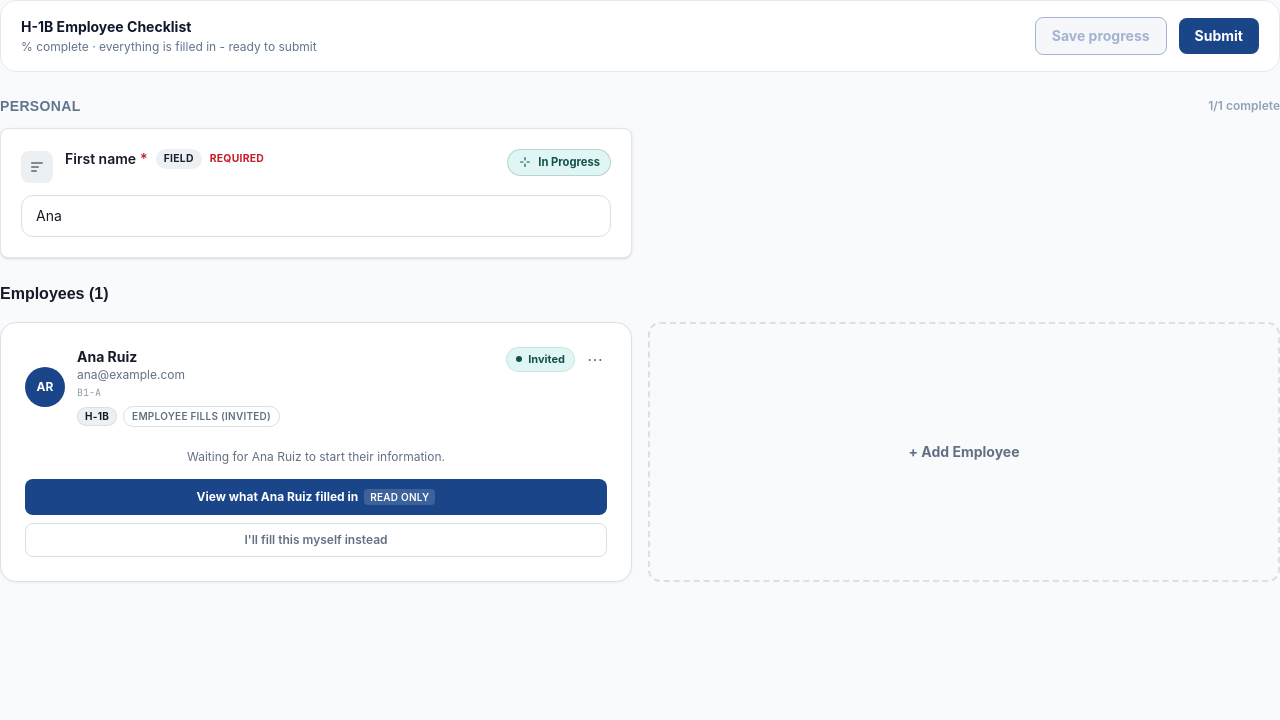
it: read-only view of an invited employee › cancelling the dialog changes nothing (Cancel, and Escape)
Click the button "View what Ana Ruiz filled in": [316, 497] box [25,479,607,515]
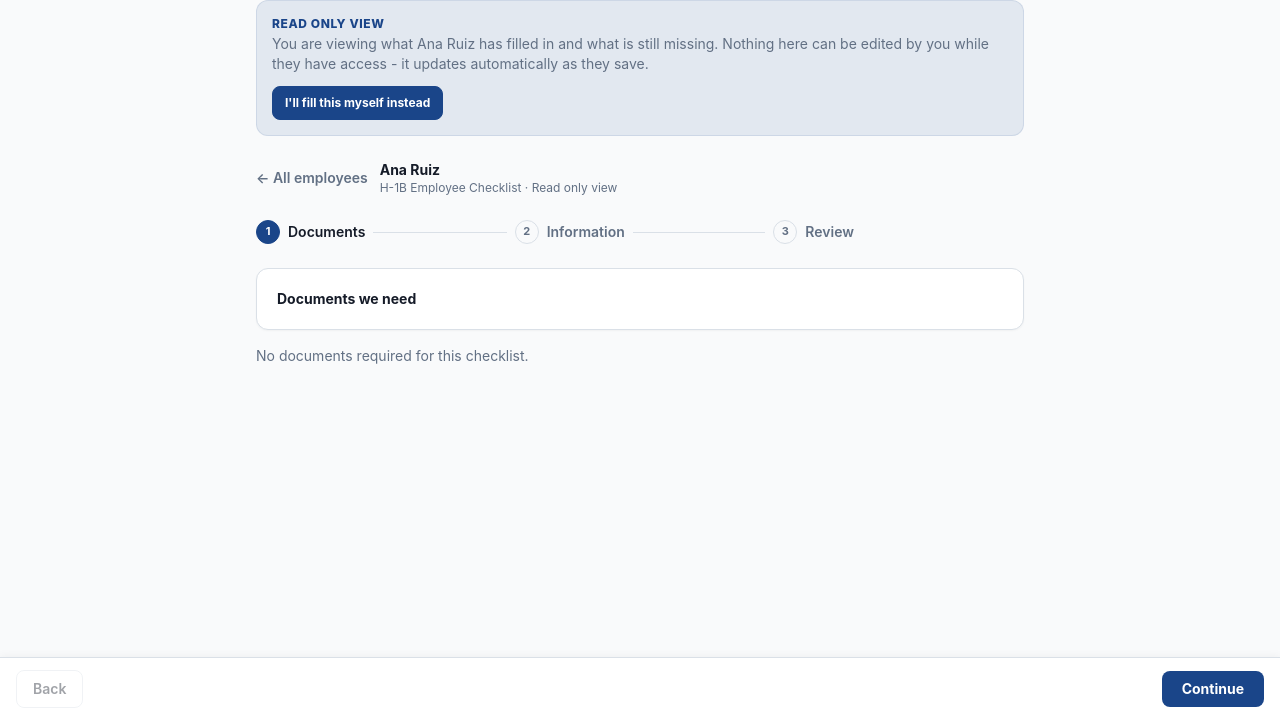
Click the button "I'll fill this myself instead": [358, 103] box [272,86,443,120]
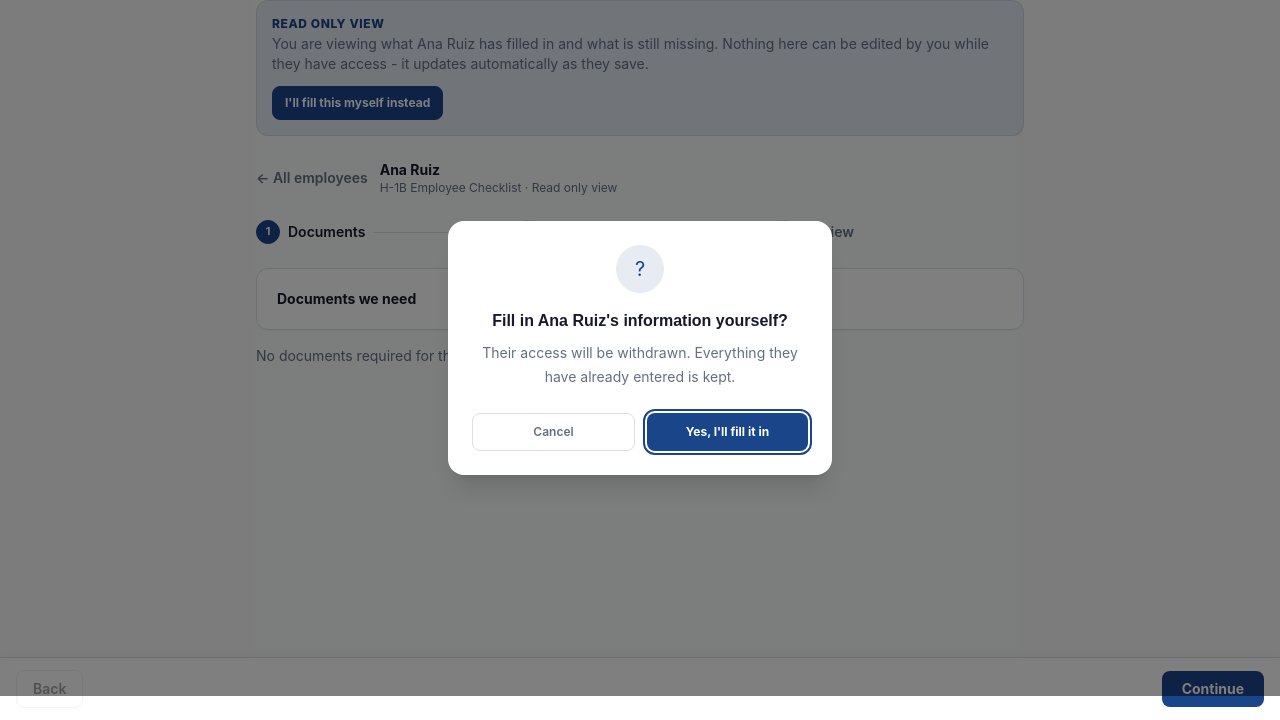
Click the button "Cancel": [554, 432] box [472,413,635,451]
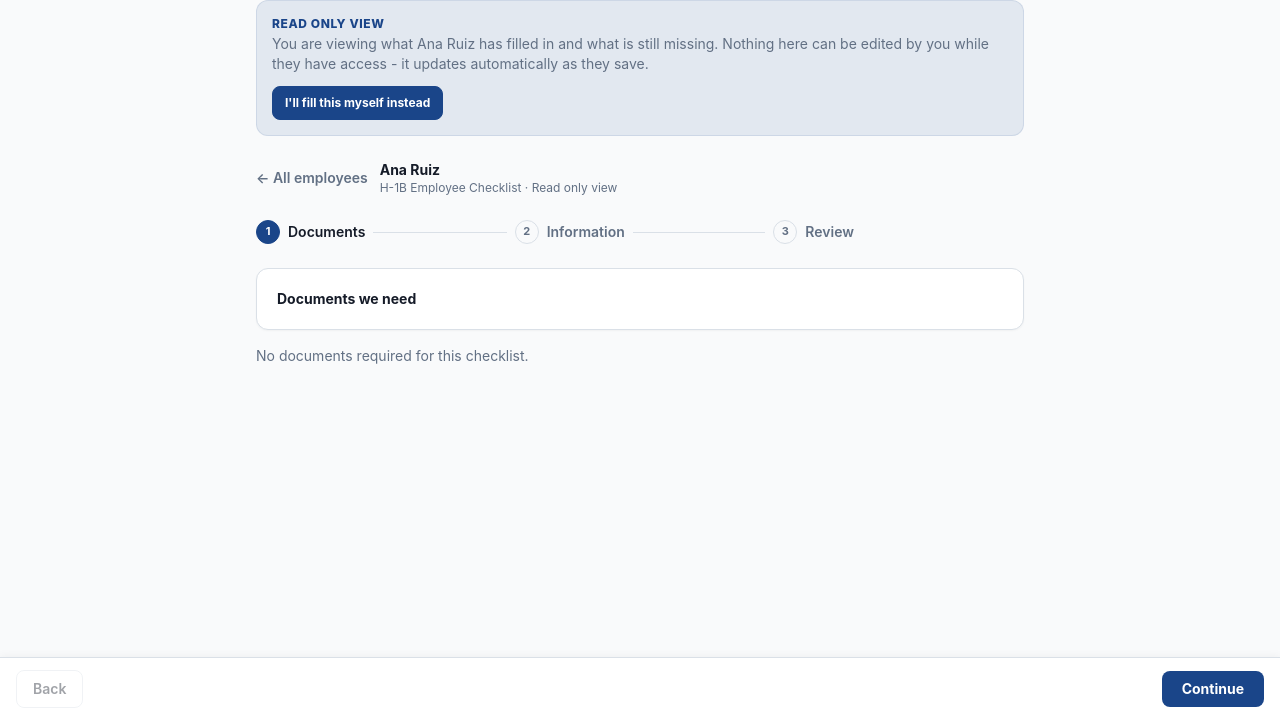
Result: the dialog is gone
Click the button "I'll fill this myself instead": [358, 103] box [272,86,443,120]
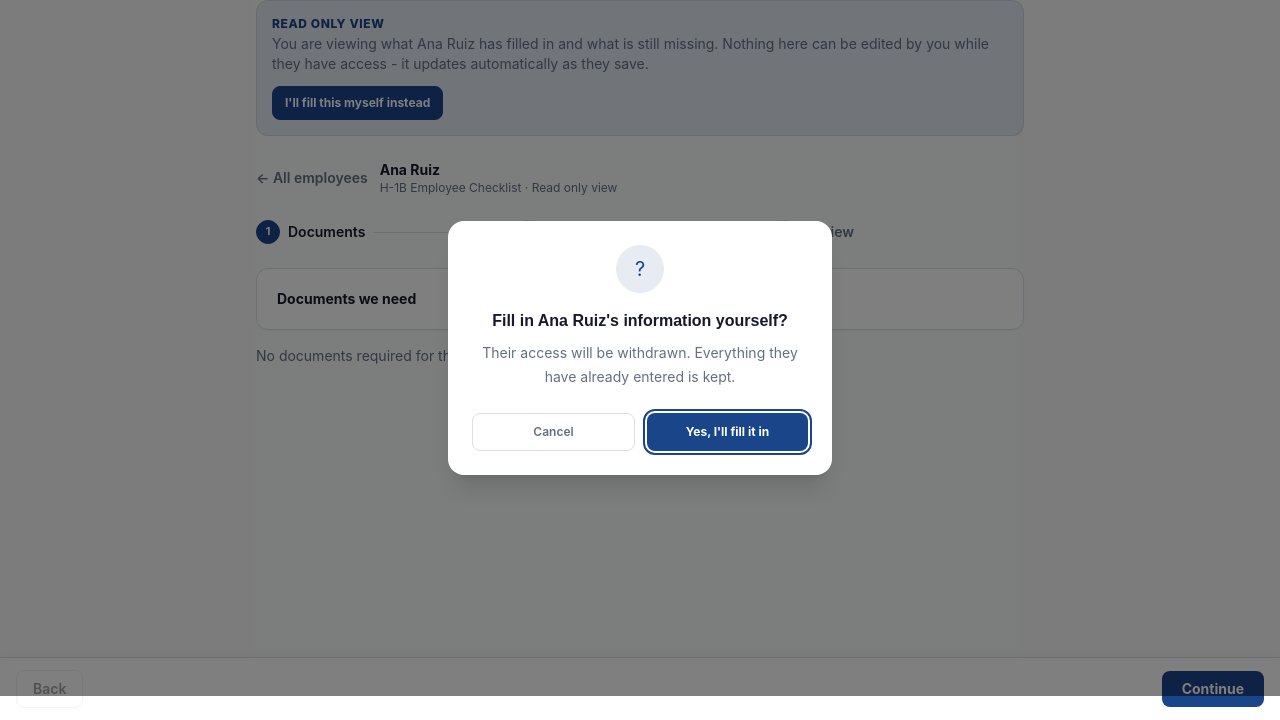
Press Escape
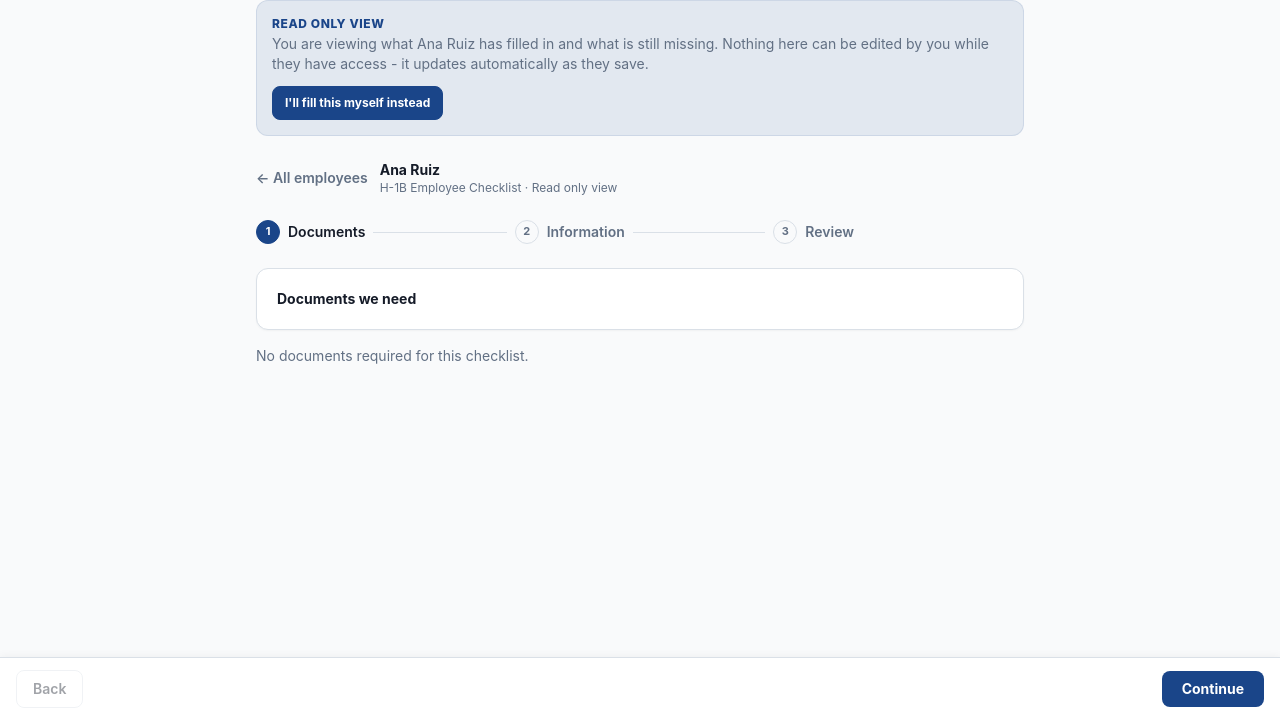
Result: the message with test id "read-only-banner" is shown at [256,0,1024,136]
Result: the dialog is gone
